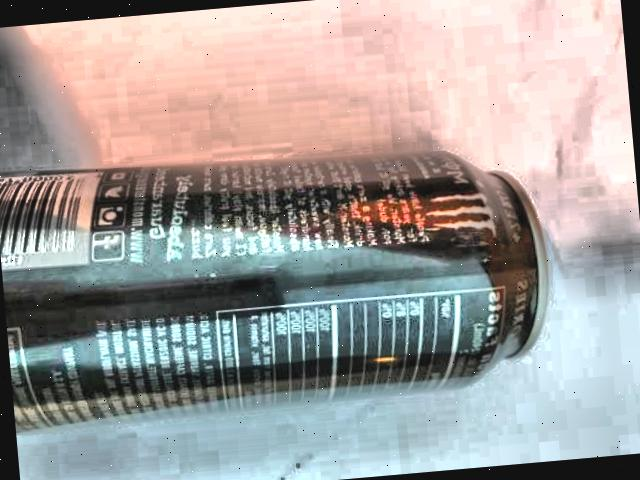Bottles: (0, 113, 587, 446)
